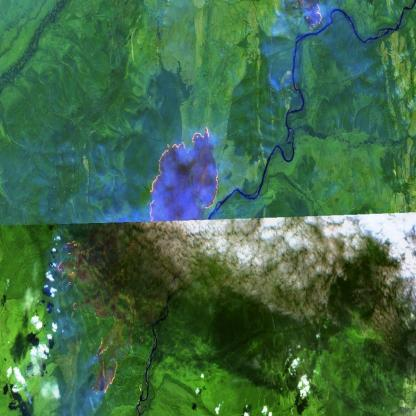fire: (52, 240, 120, 398), (146, 122, 226, 231), (299, 0, 328, 36)
